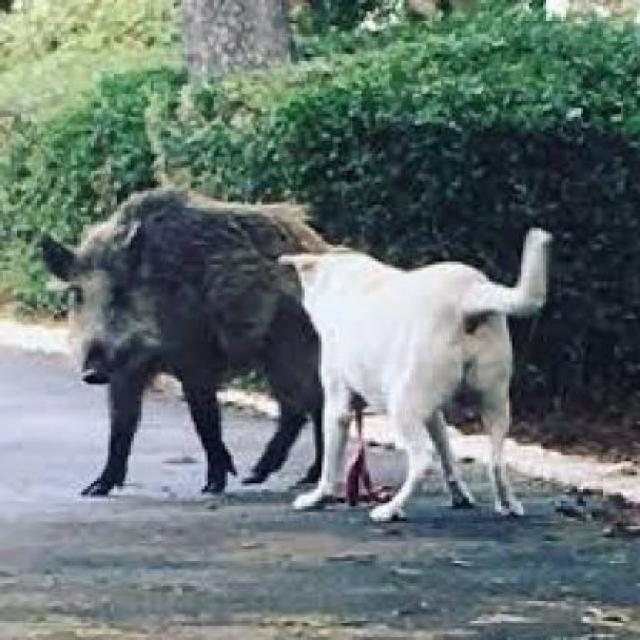Wild Boar: (32, 172, 390, 526)
